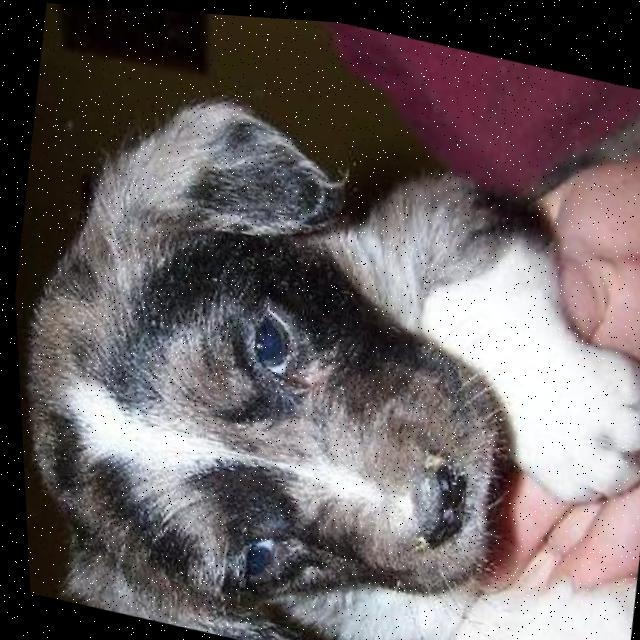dogs: (1, 28, 640, 640)
